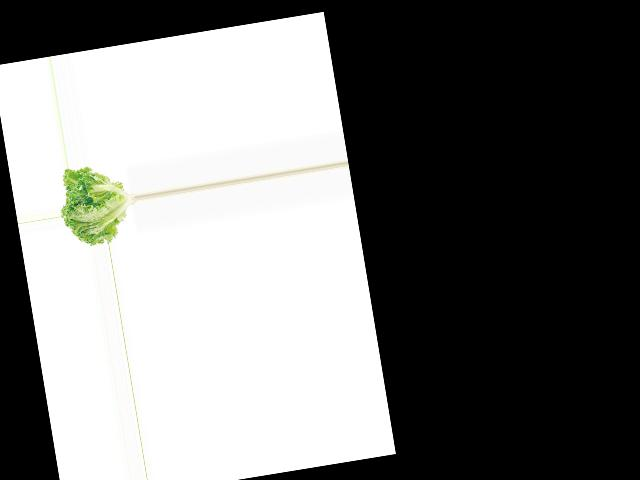lettuce: (55, 159, 141, 249)
